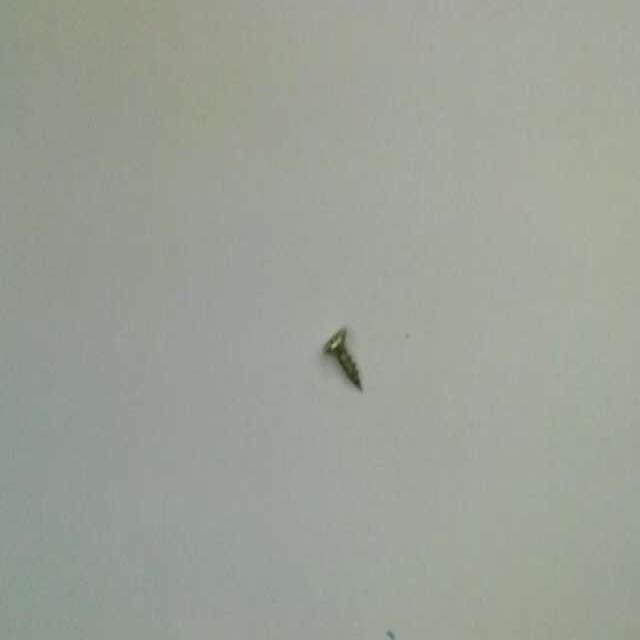Parafuso: (324, 329, 360, 388)
